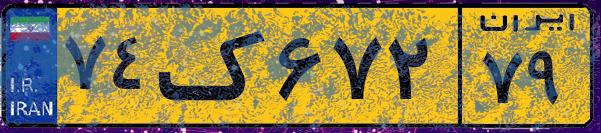2: (385, 28, 445, 110)
4: (110, 28, 158, 98)
6: (270, 28, 330, 110)
7: (330, 28, 385, 110), (57, 26, 110, 100), (475, 38, 525, 113)
9: (525, 38, 570, 115)
ک: (158, 12, 270, 120)
